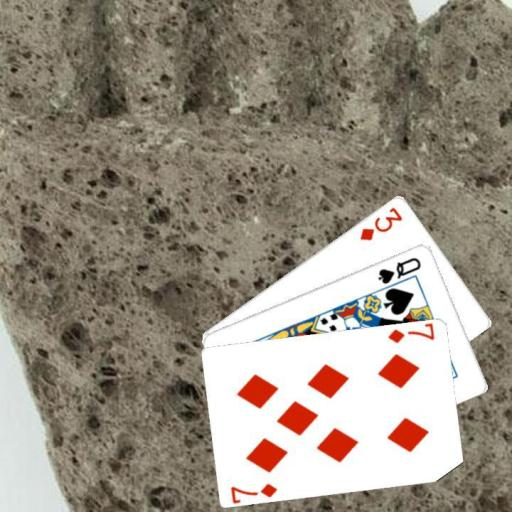3D: (356, 203, 405, 242)
7D: (385, 322, 437, 345), (228, 479, 280, 502)
QS: (375, 254, 423, 285)
